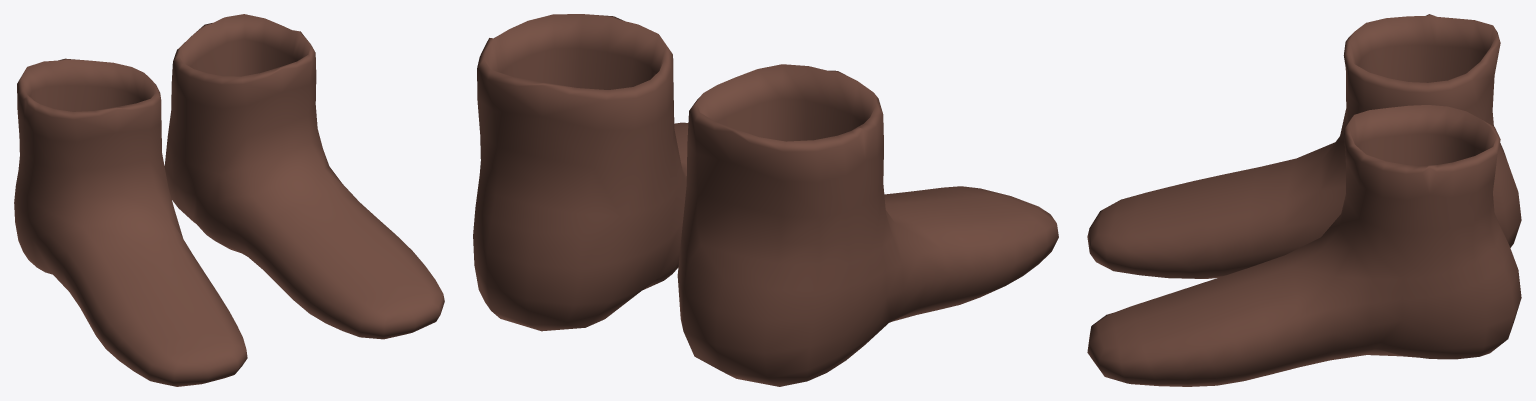
The model's file is leather_boots.gltf.
3 views of the same model, side by side, from view 1: azimuth 30°, elevation 25°; view 2: azimuth 150°, elevation 25°; view 3: azimuth 270°, elevation 25° (orthographic). The views are drawn at different scales.
Visible parts, largest first — view 1: Cube.001; view 2: Cube.001; view 3: Cube.001.
Boxes of the visible parts, x1,y1,x2,y2 form: Cube.001: (14,14,444,386); Cube.001: (473,14,1058,386); Cube.001: (1087,14,1521,386).
Size of the model in its own units: 0.1863 by 0.1159 by 0.1966.
